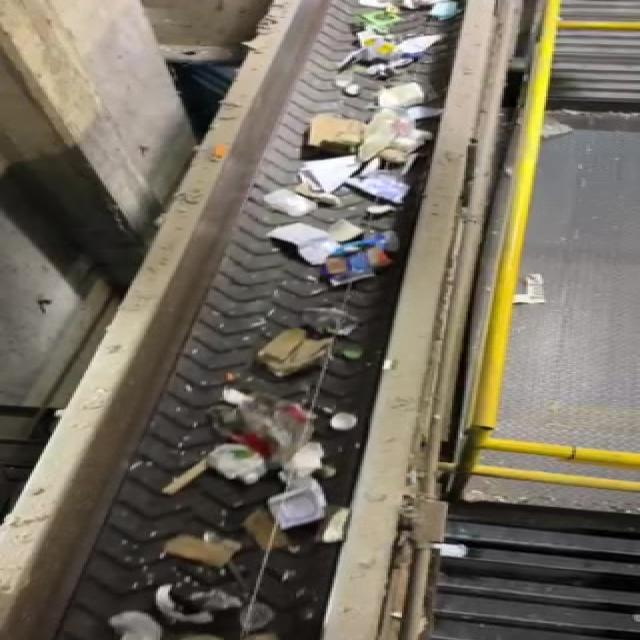metal: (308, 403, 367, 444)
paper: (171, 534, 245, 572)
ps: (210, 445, 345, 482)
